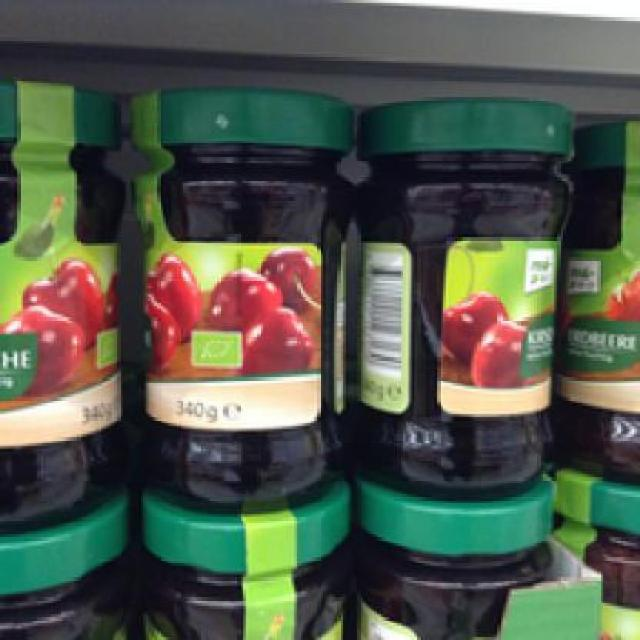Jam: (128, 86, 352, 512), (357, 94, 577, 497), (0, 76, 123, 532)
